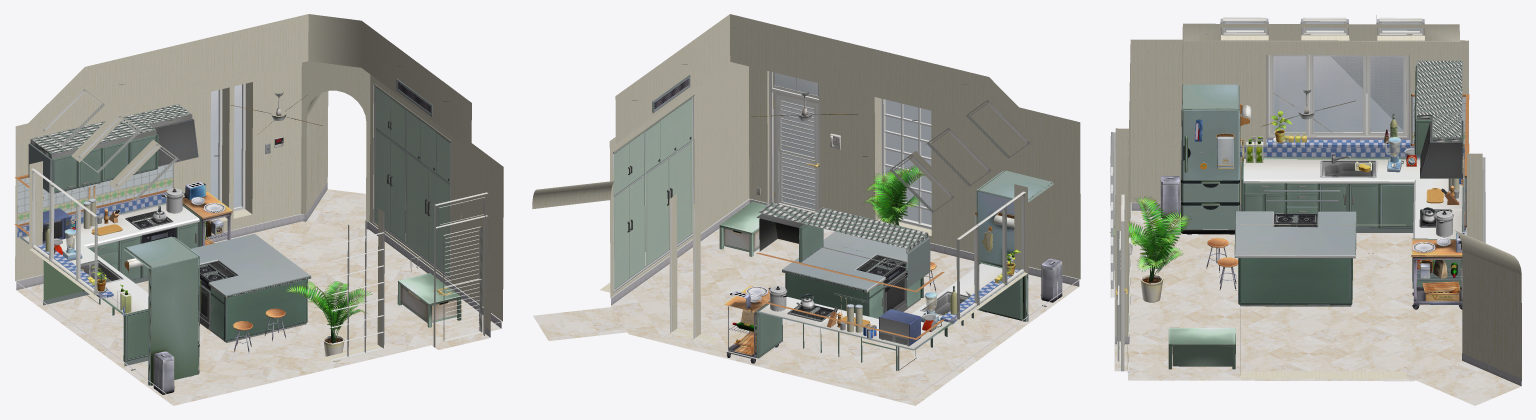
File: kitchen_hand_painted (1).glb
The picture shows the model from 3 angles, left to right: view 1: azimuth 30°, elevation 25°; view 2: azimuth 150°, elevation 25°; view 3: azimuth 270°, elevation 25°; orthographic projection. The views are drawn at different scales.
Visible parts, largest first — view 1: FrontSide_18, FrontSide_7, FrontSide_17, FrontSide_25, FrontSide_24, FrontSide_22, FrontSide_11, FrontSide_51, FrontSide_9, FrontSide_70, FrontSide_69, FrontSide_19 (+8 smaller); view 2: FrontSide_18, FrontSide_7, FrontSide_25, FrontSide_24, FrontSide_17, FrontSide_22, FrontSide_11, FrontSide_63, FrontSide_51, FrontSide_69, FrontSide_9, FrontSide_19 (+5 smaller); view 3: FrontSide_7, FrontSide_18, FrontSide_17, FrontSide_25, FrontSide_22, FrontSide_11, FrontSide_51, FrontSide_69, FrontSide_9, FrontSide_23, FrontSide_71, FrontSide_10 (+8 smaller).
Boxes of the visible parts, box(x1,y1,x2,y2) form: FrontSide_18: box(15, 14, 503, 362); FrontSide_7: box(16, 189, 501, 405); FrontSide_17: box(23, 104, 201, 361); FrontSide_25: box(31, 83, 487, 360); FrontSide_24: box(373, 85, 450, 279); FrontSide_22: box(191, 234, 311, 341); FrontSide_11: box(124, 236, 201, 385); FrontSide_51: box(15, 182, 502, 399); FrontSide_9: box(397, 273, 461, 327); FrontSide_70: box(17, 163, 173, 224); FrontSide_69: box(284, 281, 371, 330); FrontSide_19: box(20, 134, 306, 366); FrontSide_18: box(532, 14, 1080, 343); FrontSide_7: box(533, 228, 1078, 405); FrontSide_25: box(627, 71, 1030, 341); FrontSide_24: box(613, 96, 693, 292); FrontSide_17: box(756, 202, 1023, 370); FrontSide_22: box(782, 231, 923, 318); FrontSide_11: box(976, 170, 1053, 321); FrontSide_63: box(886, 99, 931, 224); FrontSide_51: box(610, 198, 1080, 397); FrontSide_69: box(864, 165, 924, 224); FrontSide_9: box(719, 201, 766, 256); FrontSide_19: box(756, 237, 938, 370); FrontSide_7: box(1114, 210, 1520, 405); FrontSide_18: box(1115, 15, 1521, 378); FrontSide_17: box(1241, 60, 1463, 288); FrontSide_25: box(1110, 17, 1485, 371); FrontSide_22: box(1234, 211, 1356, 304); FrontSide_11: box(1181, 84, 1240, 234); FrontSide_51: box(1115, 138, 1521, 386); FrontSide_69: box(1110, 196, 1191, 272); FrontSide_9: box(1168, 327, 1235, 369); FrontSide_23: box(1411, 239, 1462, 309); FrontSide_71: box(1206, 94, 1469, 290); FrontSide_10: box(1160, 176, 1180, 219).
Size of what is drawn, in the model's own units: 83.78 by 43.27 by 72.68.
73 materials, 67 textured.
